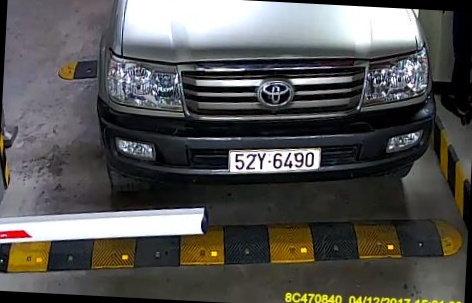plate: (225, 142, 327, 178)
